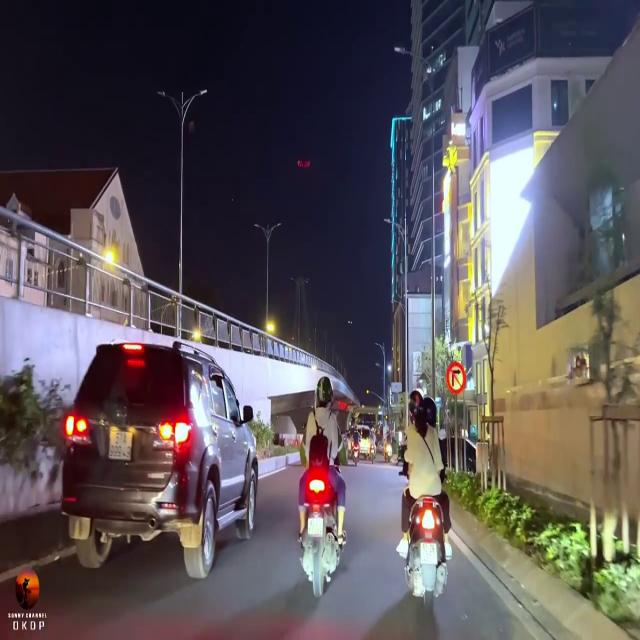bien_trang: (108, 430, 132, 464)
